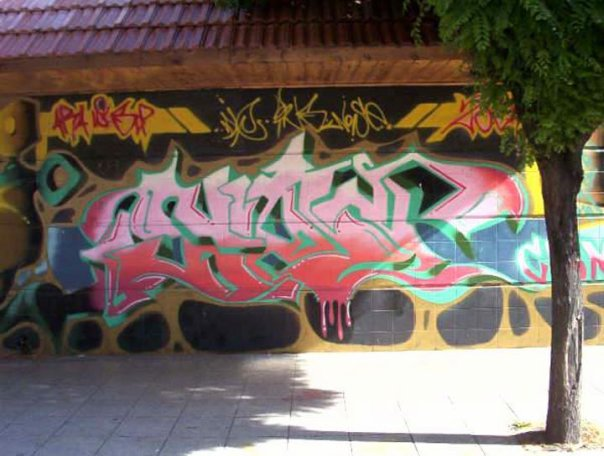graffity: (19, 123, 598, 358), (208, 90, 394, 149), (39, 94, 215, 152), (390, 88, 536, 149), (1, 95, 45, 269)
